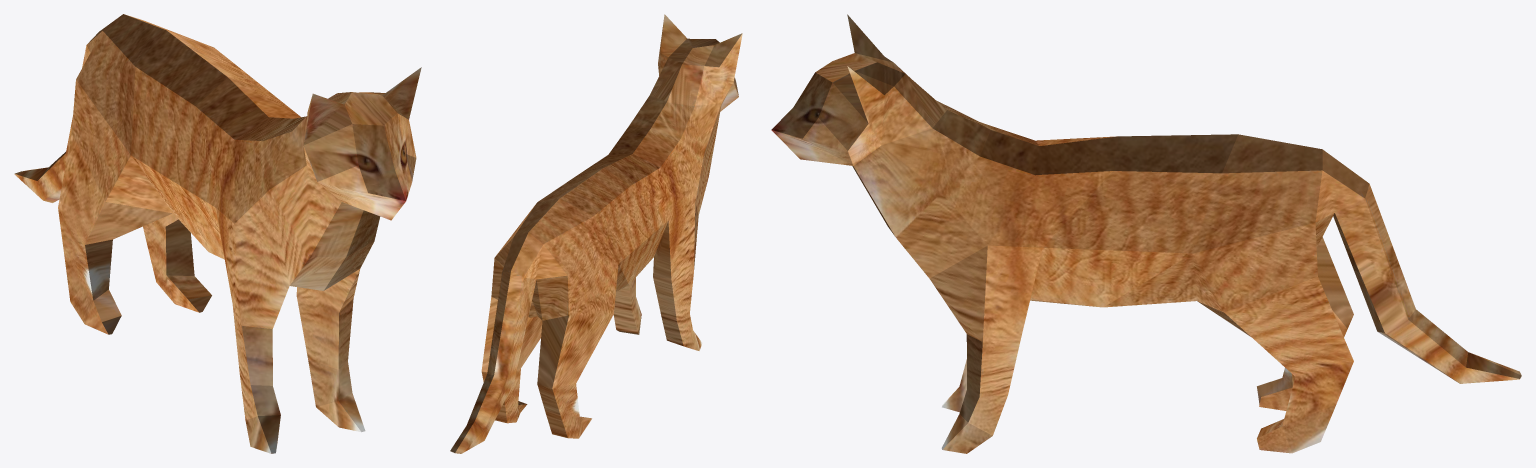
The model's file is cat_ginger.glb.
3 views of the same model, side by side, from view 1: azimuth 30°, elevation 25°; view 2: azimuth 150°, elevation 25°; view 3: azimuth 270°, elevation 25° (orthographic). The views are drawn at different scales.
Parts seen in each view (by area): view 1: ORIGAMI_Chat; view 2: ORIGAMI_Chat; view 3: ORIGAMI_Chat.
Part boxes in pixels (x1=…): ORIGAMI_Chat: x1=14, y1=14, x2=421, y2=453; ORIGAMI_Chat: x1=450, y1=14, x2=742, y2=453; ORIGAMI_Chat: x1=771, y1=14, x2=1521, y2=453.
Size of the model in its own units: 12.69 by 35.28 by 61.89.
Materials: 1 (1 with a texture image).
